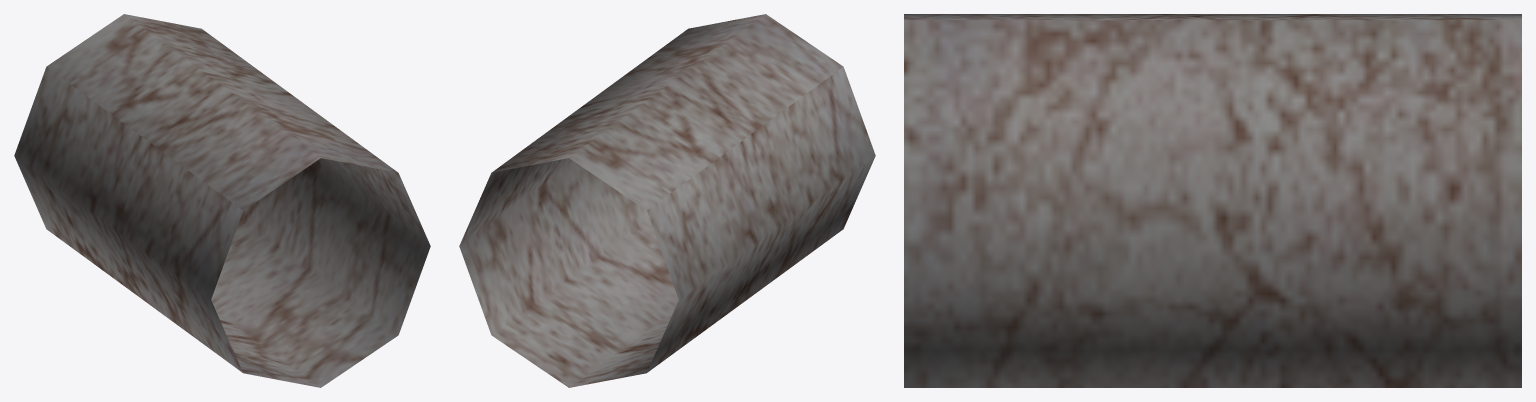
File: Venting8.fbx
3 renders of one model, left to right at view 1: azimuth 30°, elevation 25°; view 2: azimuth 150°, elevation 25°; view 3: azimuth 270°, elevation 25°, orthographic. The views are drawn at different scales.
Visible parts, largest first — view 1: Venting8; view 2: Venting8; view 3: Venting8.
Boxes of the visible parts, left/top/right/bottom form: Venting8: left=14, top=14, right=430, bottom=387; Venting8: left=459, top=14, right=875, bottom=387; Venting8: left=904, top=14, right=1521, bottom=387.
Size of the model in its own units: 22.32 by 22.32 by 34.64.
